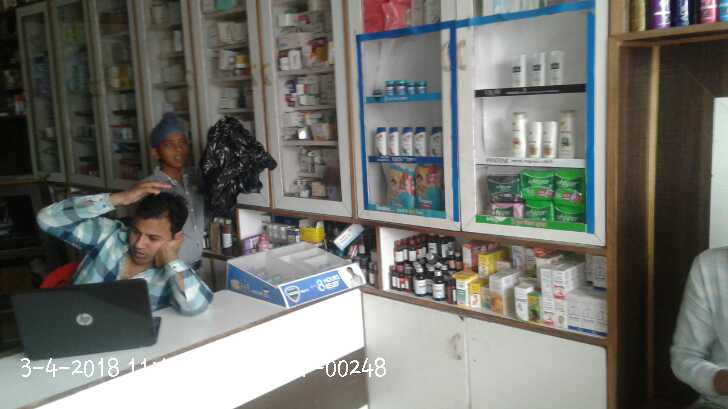vicks: (385, 80, 428, 95)
